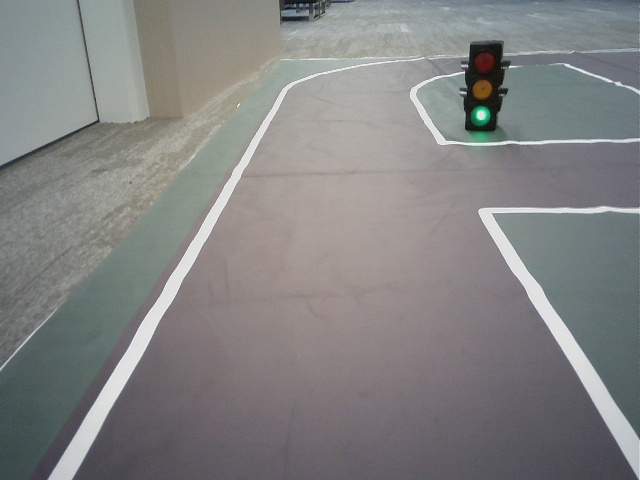green: (467, 48, 497, 126)
